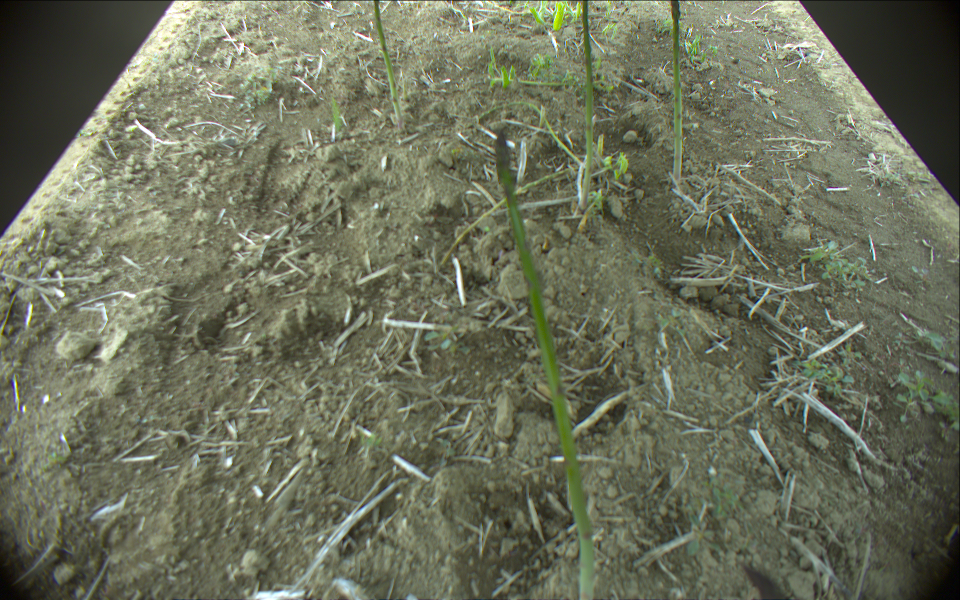aspa: (494, 129, 595, 600), (441, 168, 576, 271), (468, 94, 589, 168), (372, 1, 406, 135), (576, 1, 595, 211), (669, 1, 684, 187)
